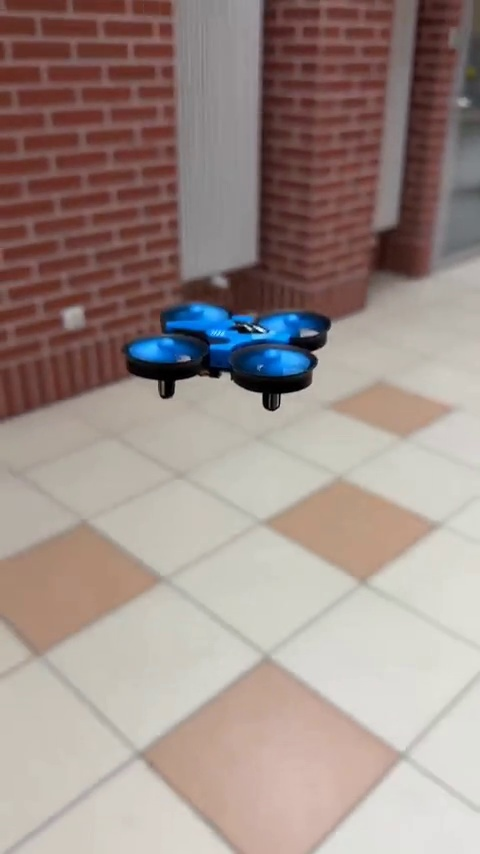drone: (122, 298, 337, 409)
